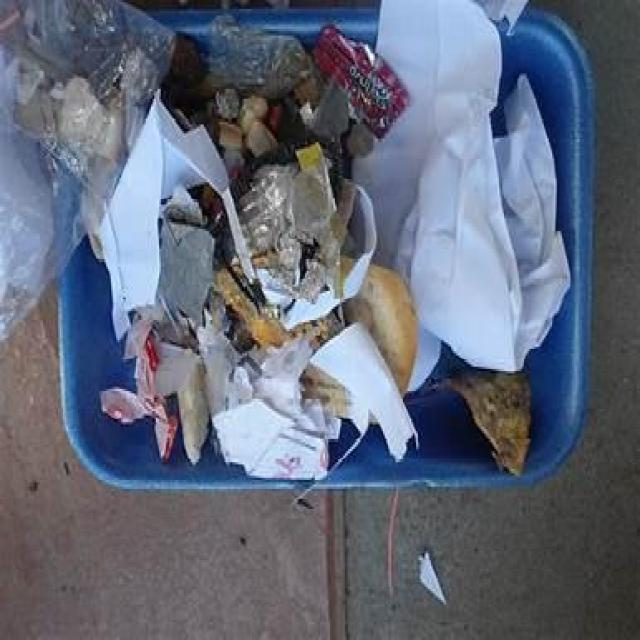Garbage: (0, 0, 574, 482)
Plastic_Bag: (0, 3, 175, 340), (210, 17, 311, 101)
Plastic_wraper: (100, 315, 178, 459), (313, 27, 409, 141)
